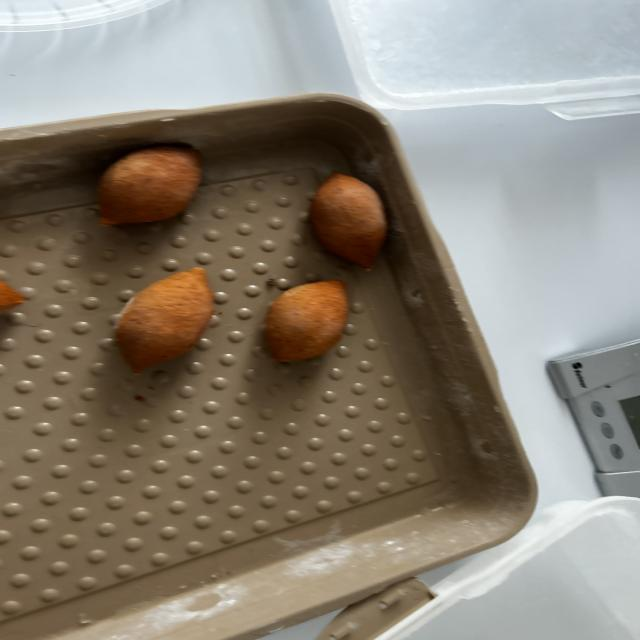kobi: (113, 266, 214, 374), (97, 144, 202, 226), (262, 278, 349, 362), (316, 177, 392, 271)
